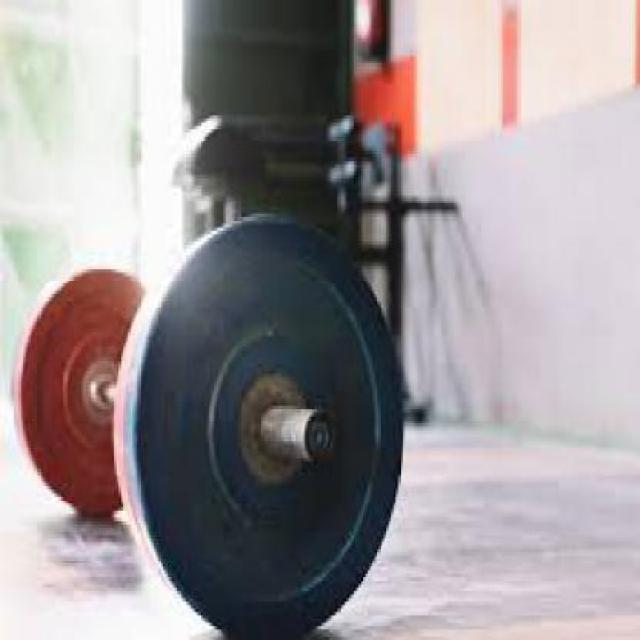barbell: (115, 207, 413, 640)
